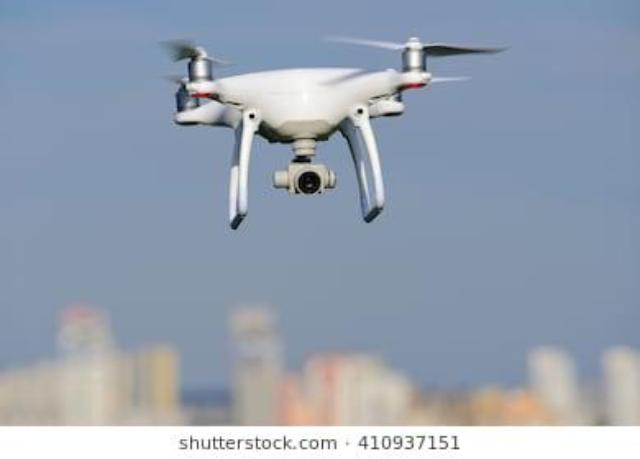drone: (125, 15, 518, 235)
